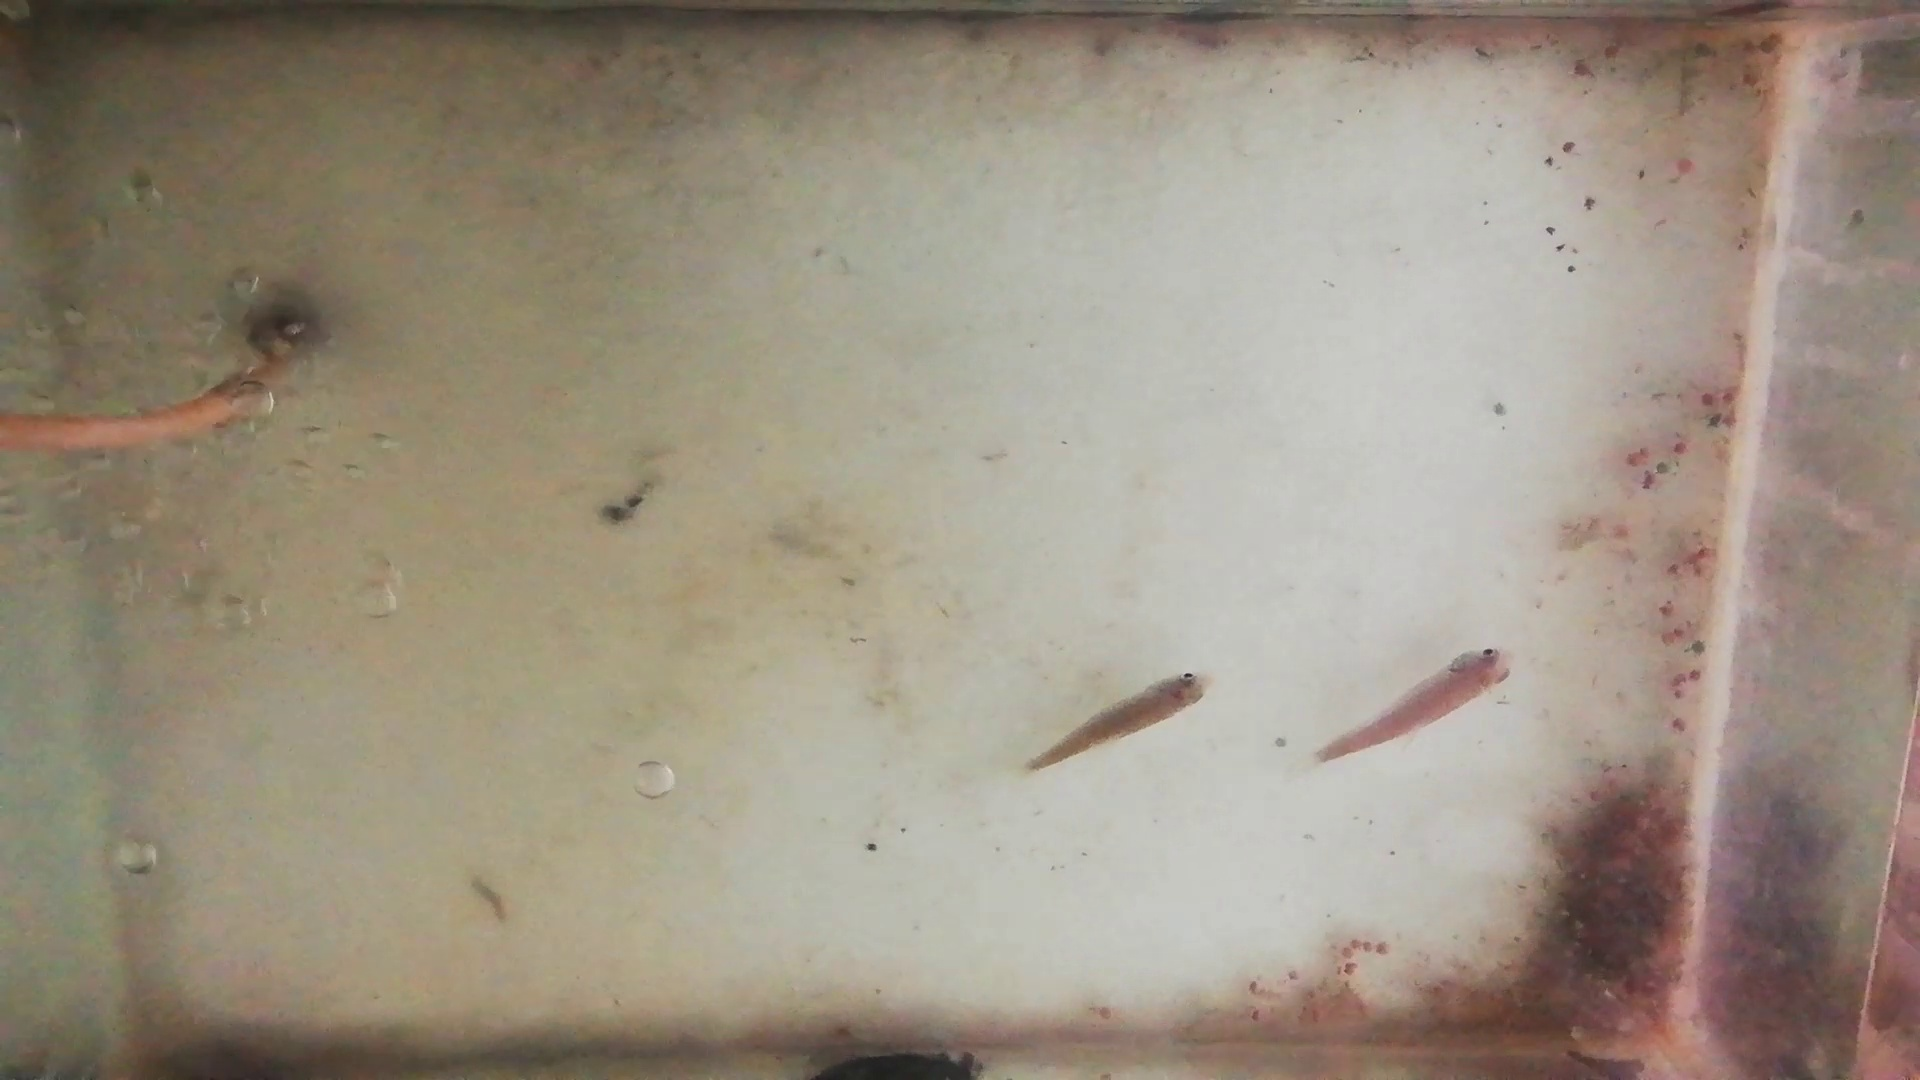fish: (1317, 650, 1516, 757), (1027, 669, 1211, 771)
